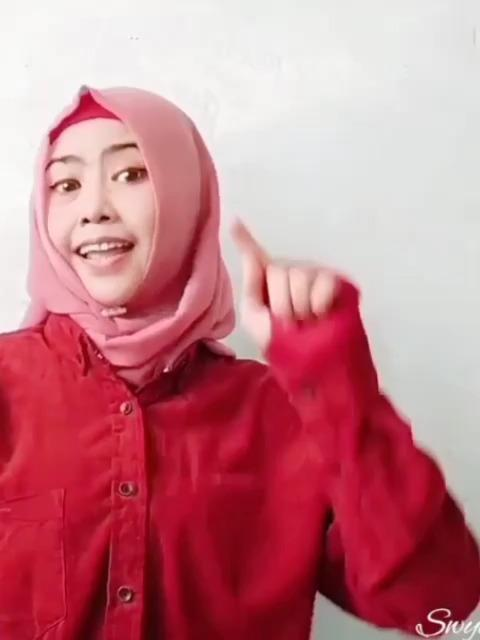Z: (228, 221, 360, 365)
